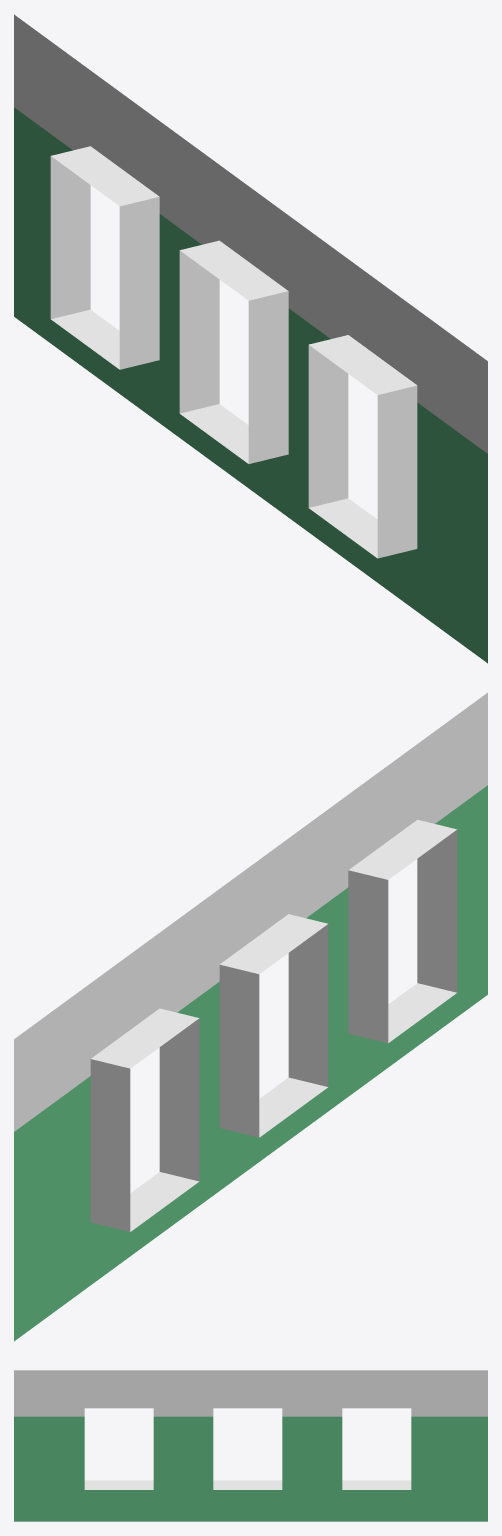
Rendered from wall4.obj.
3 renders of one model, top to bottom at view 1: azimuth 30°, elevation 25°; view 2: azimuth 150°, elevation 25°; view 3: azimuth 270°, elevation 25°, orthographic. The views are drawn at different scales.
Parts seen in each view (by area): view 1: walls_Cube.009; view 2: walls_Cube.009; view 3: walls_Cube.009.
Part boxes in pixels (box(x1,y1,x2,y2)): walls_Cube.009: box(14, 14, 487, 663); walls_Cube.009: box(14, 692, 487, 1341); walls_Cube.009: box(14, 1370, 487, 1521).
Size of the model in its own units: 0.5 by 3.62 by 10.3.
